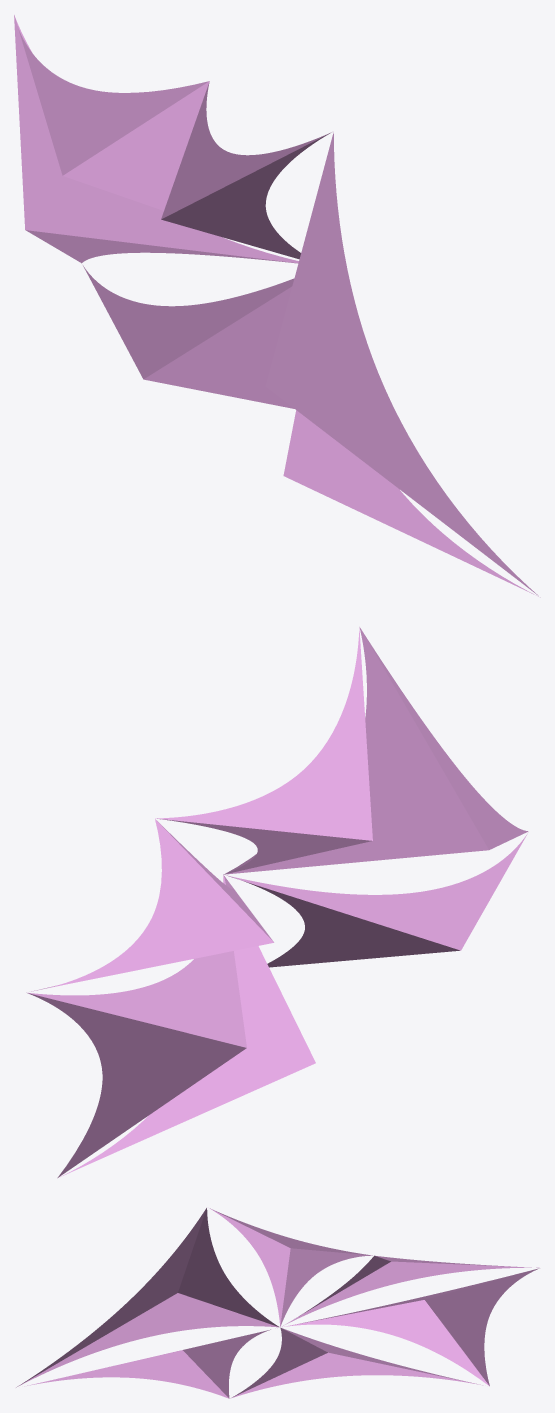
The model's file is TYPE14-4.glb.
3 renders of one model, top to bottom at view 1: azimuth 30°, elevation 25°; view 2: azimuth 150°, elevation 25°; view 3: azimuth 270°, elevation 25°, orthographic. The views are drawn at different scales.
Parts seen in each view (by area): view 1: TYPE14-4 (×10); view 2: TYPE14-4 (×10); view 3: TYPE14-4 (×17).
Boxes of the visible parts, x1,y1,x2,y2 form: TYPE14-4 (×10): [14, 15, 540, 597]; TYPE14-4 (×10): [27, 627, 528, 1177]; TYPE14-4 (×17): [16, 1208, 539, 1398].
Size of the model in its own units: 1.27 by 2.33 by 6.31.
